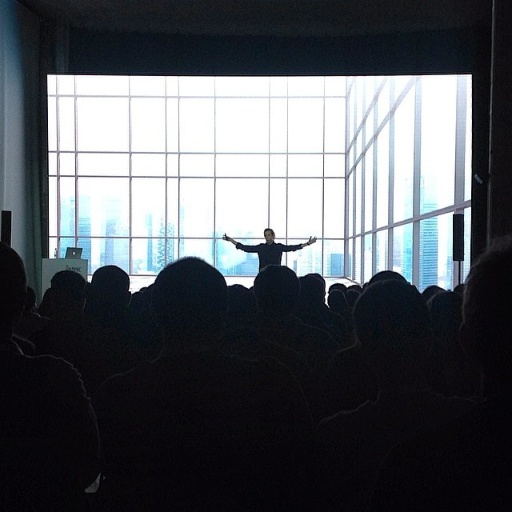hand: (219, 233, 230, 241), (308, 236, 317, 243)
